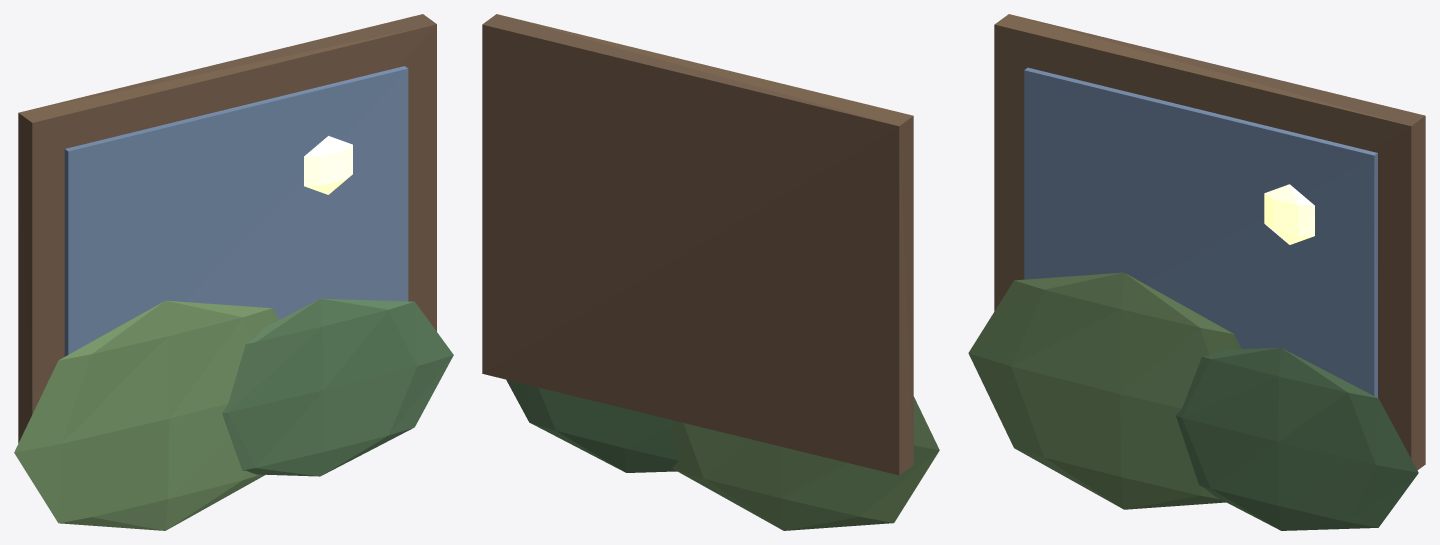
File: picture_a.glb
The picture shows the model from 3 angles, left to right: view 1: azimuth 30°, elevation 25°; view 2: azimuth 150°, elevation 25°; view 3: azimuth 330°, elevation 25°; orthographic projection. The views are drawn at different scales.
Visible parts, largest first — view 1: picture_a; view 2: picture_a; view 3: picture_a.
Boxes of the visible parts, left/top/right/bottom form: picture_a: left=14, top=14, right=453, bottom=530; picture_a: left=482, top=14, right=939, bottom=530; picture_a: left=968, top=14, right=1425, bottom=530.
Size of the model in its own units: 1.08 by 1.03 by 0.0958.
